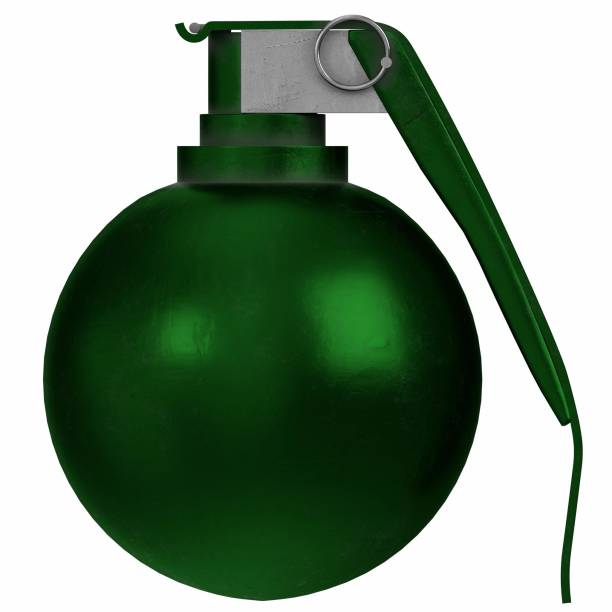e1: (42, 21, 586, 608)
